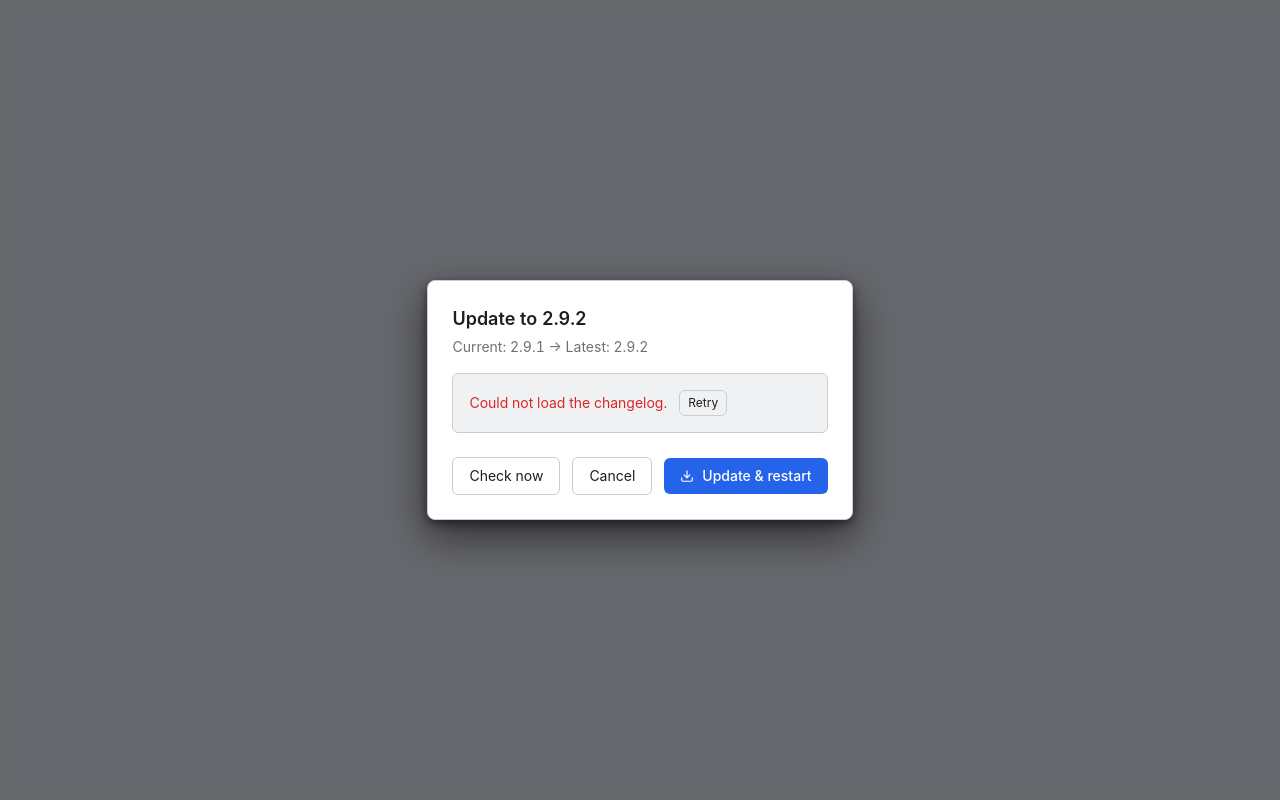
it: UpdateDialog changelog failure is visible and recoverable › reports a failed fetch in words, keeps the detail in the tooltip, and offers a retry
Click the button "Retry".
click(703, 403)  # box [679,390,727,416]
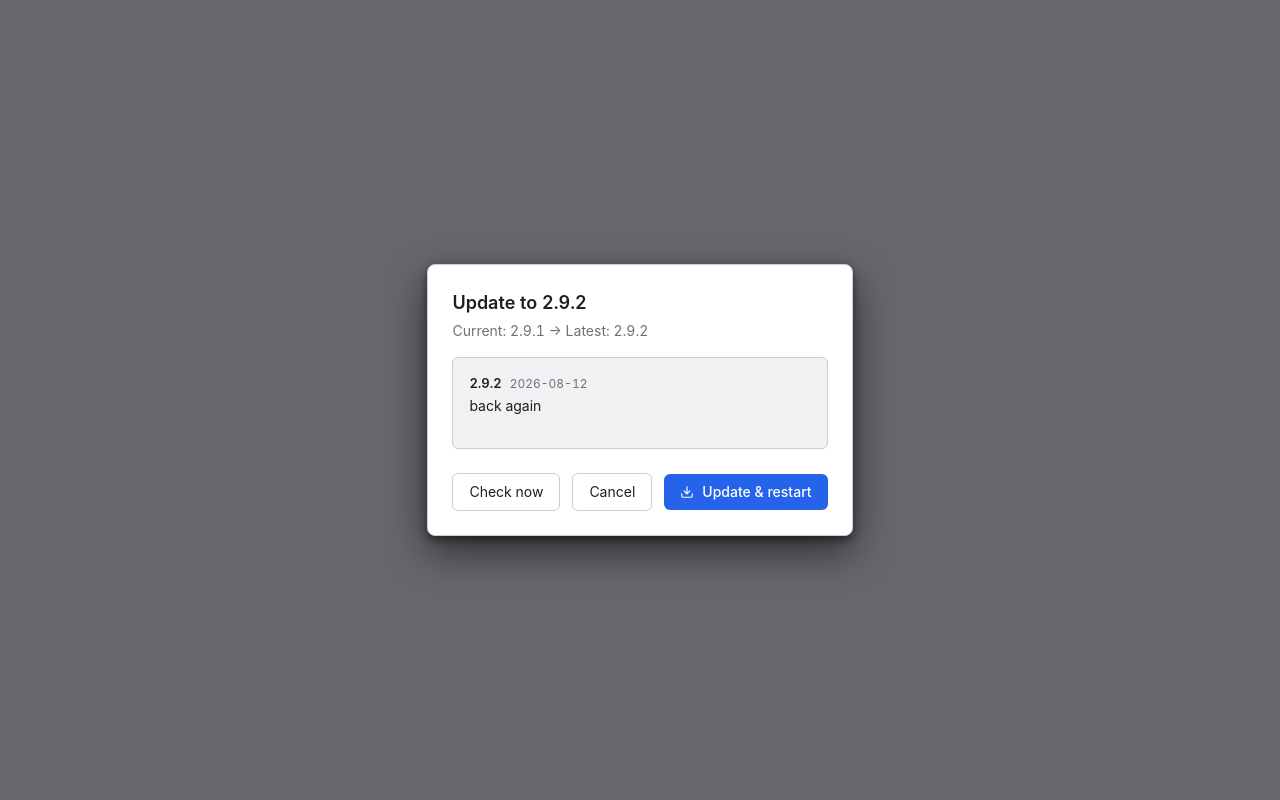
Now the list item "back again" is shown, box [469,397,541,414]
